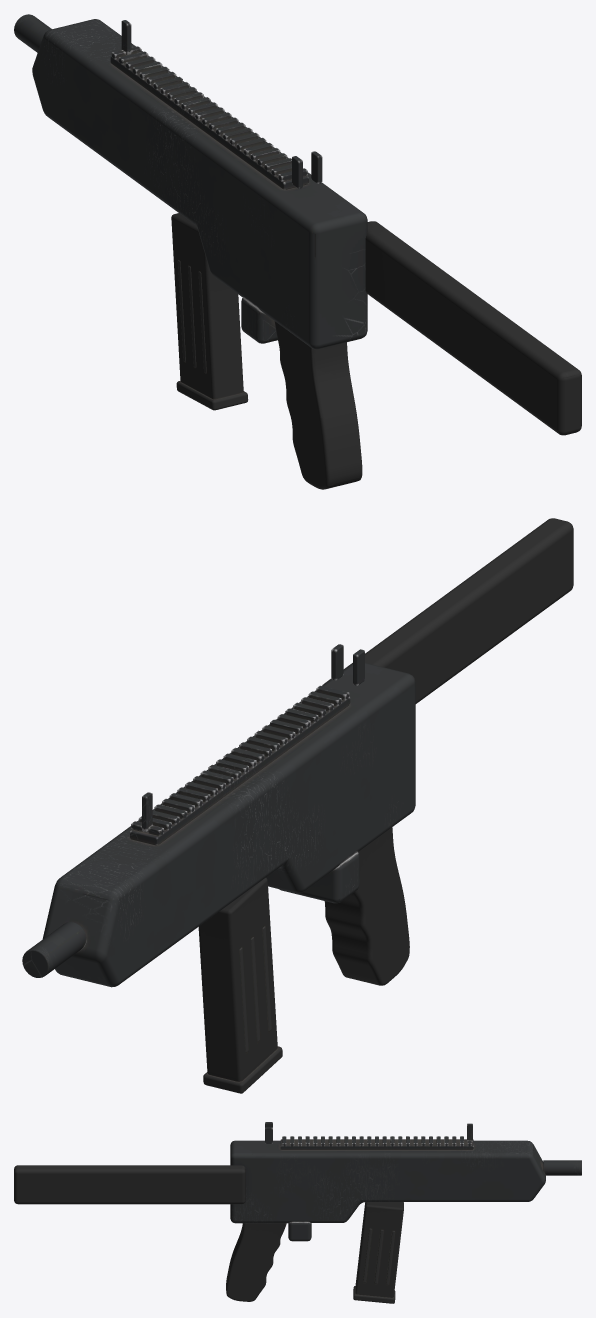
Rendered from ump45.gltf.
3 views of the same model, one above another, from view 1: azimuth 30°, elevation 25°; view 2: azimuth 150°, elevation 25°; view 3: azimuth 270°, elevation 25° (orthographic). The views are drawn at different scales.
Parts seen in each view (by area): view 1: Frame, Stock, Mag_body; view 2: Frame, Stock, Mag_body; view 3: Frame, Stock, Mag_body.
Boxes of the visible parts, <box> form: Frame: <box>14,14,367,489</box>; Stock: <box>365,221,581,435</box>; Mag_body: <box>171,213,248,410</box>; Frame: <box>22,644,415,987</box>; Stock: <box>322,518,573,703</box>; Mag_body: <box>198,877,282,1093</box>; Frame: <box>226,1122,581,1301</box>; Stock: <box>14,1165,245,1204</box>; Mag_body: <box>353,1202,403,1303</box>.
Size of the model in its own units: 0.065 by 0.2504 by 0.735.
3 materials, 3 textured.
